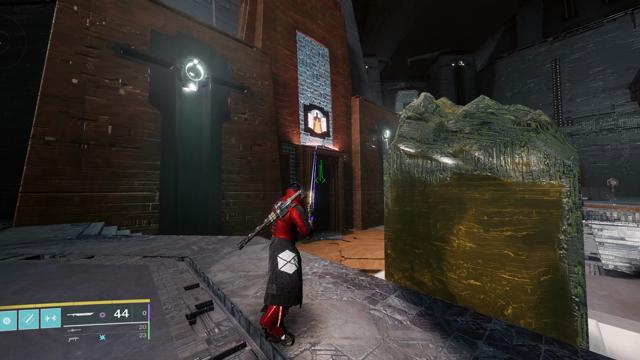worship: (308, 110, 326, 133)
